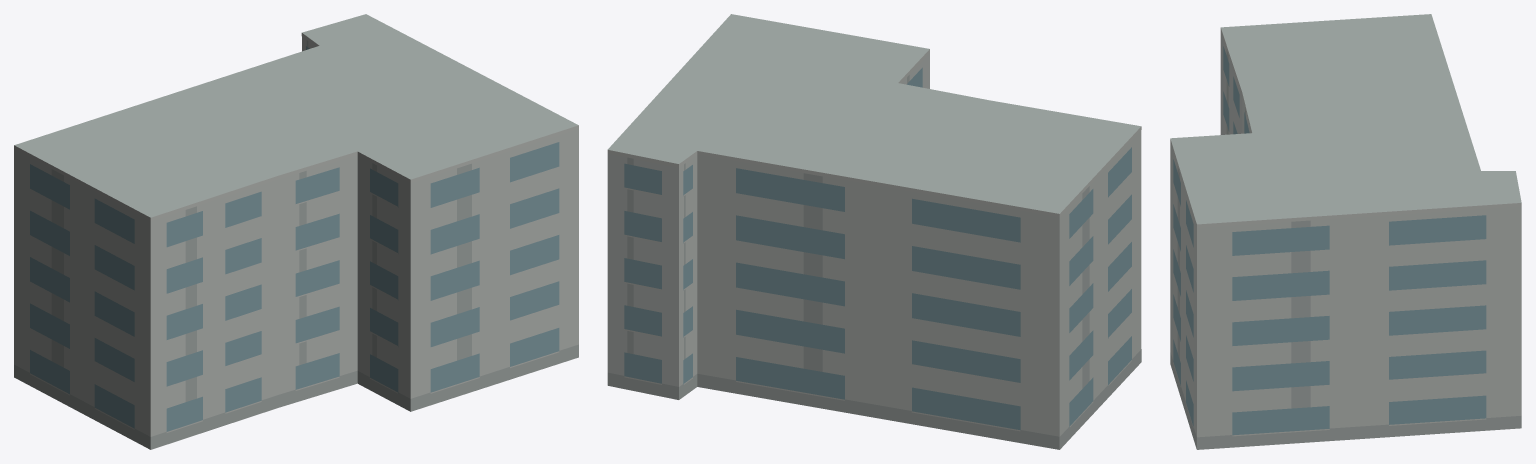
File: survey-upis-32703584.glb
3 renders of one model, left to right at view 1: azimuth 30°, elevation 25°; view 2: azimuth 150°, elevation 25°; view 3: azimuth 270°, elevation 25°, orthographic. The views are drawn at different scales.
Visible parts, largest first — view 1: survey-upis-32703584.tmp; view 2: survey-upis-32703584.tmp; view 3: survey-upis-32703584.tmp.
Part boxes in pixels (x1,y1,x2,y2): survey-upis-32703584.tmp: (14, 14, 578, 449); survey-upis-32703584.tmp: (607, 14, 1141, 449); survey-upis-32703584.tmp: (1170, 14, 1521, 449).
Size of the model in its own units: 30.53 by 15.25 by 21.55.
